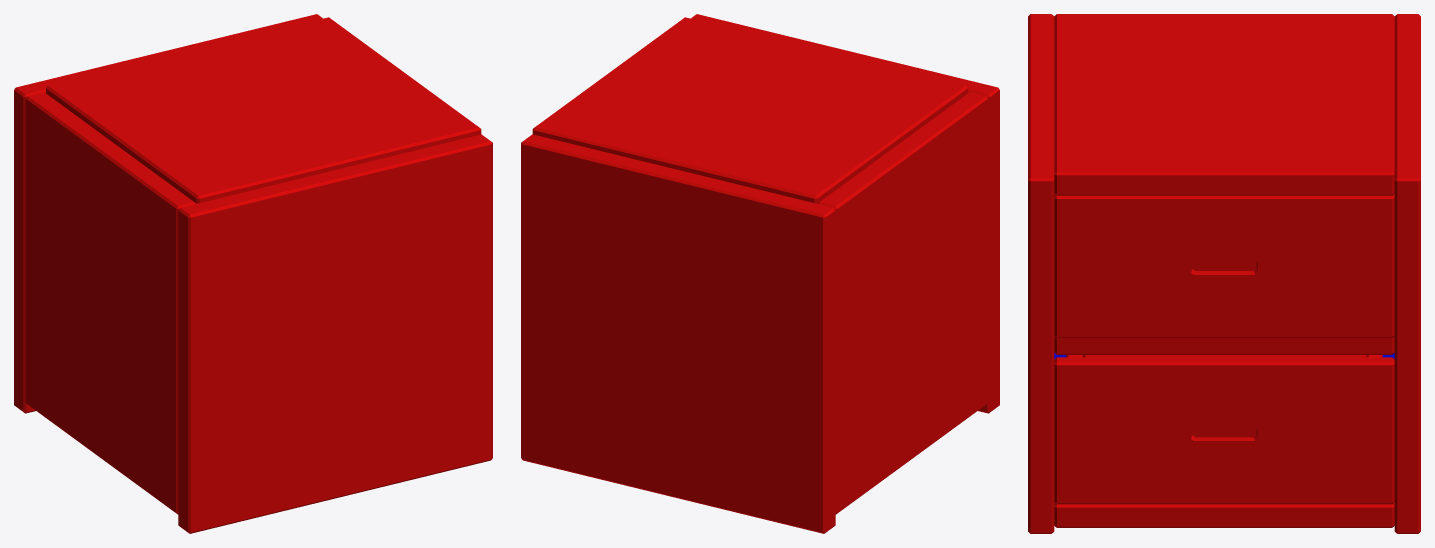
File: smalldresser.fbx
3 renders of one model, left to right at view 1: azimuth 30°, elevation 25°; view 2: azimuth 150°, elevation 25°; view 3: azimuth 270°, elevation 25°, orthographic. The views are drawn at different scales.
Parts seen in each view (by area): view 1: m1; view 2: m1; view 3: m1.
Boxes of the visible parts, box(x1,y1,x2,y2) form: m1: box(14, 14, 492, 533); m1: box(521, 14, 999, 533); m1: box(1028, 14, 1420, 533).
Size of the model in its own units: 1.5 by 1.53 by 1.5.
